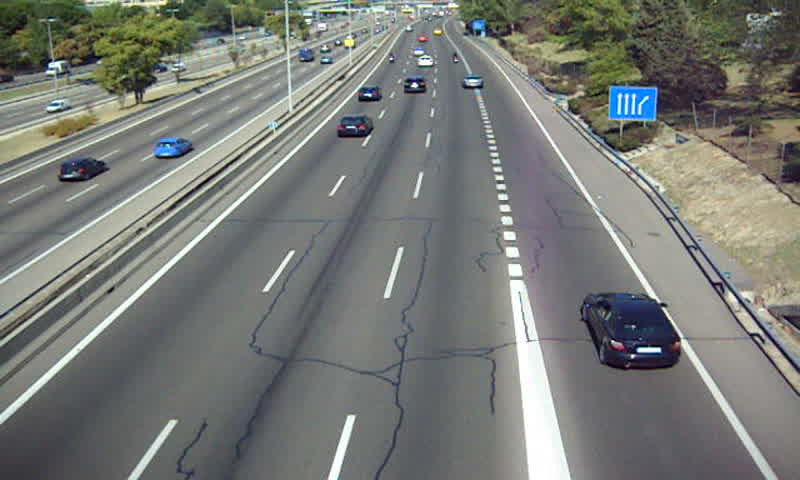car: (583, 293, 680, 368), (338, 114, 372, 137), (402, 76, 426, 94), (357, 85, 380, 103), (462, 74, 484, 90), (416, 54, 434, 67)
